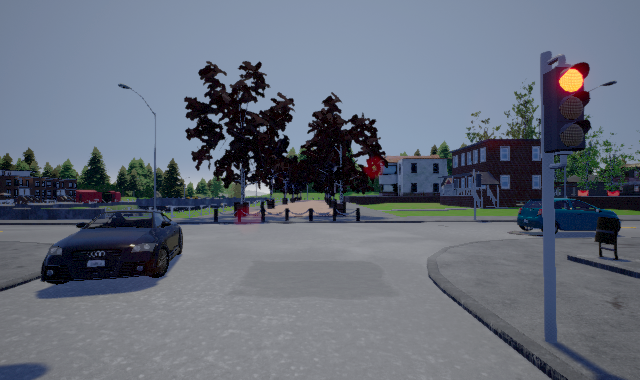traffic_light: (543, 54, 591, 169)
vehicle: (40, 209, 183, 285), (517, 197, 619, 234)
